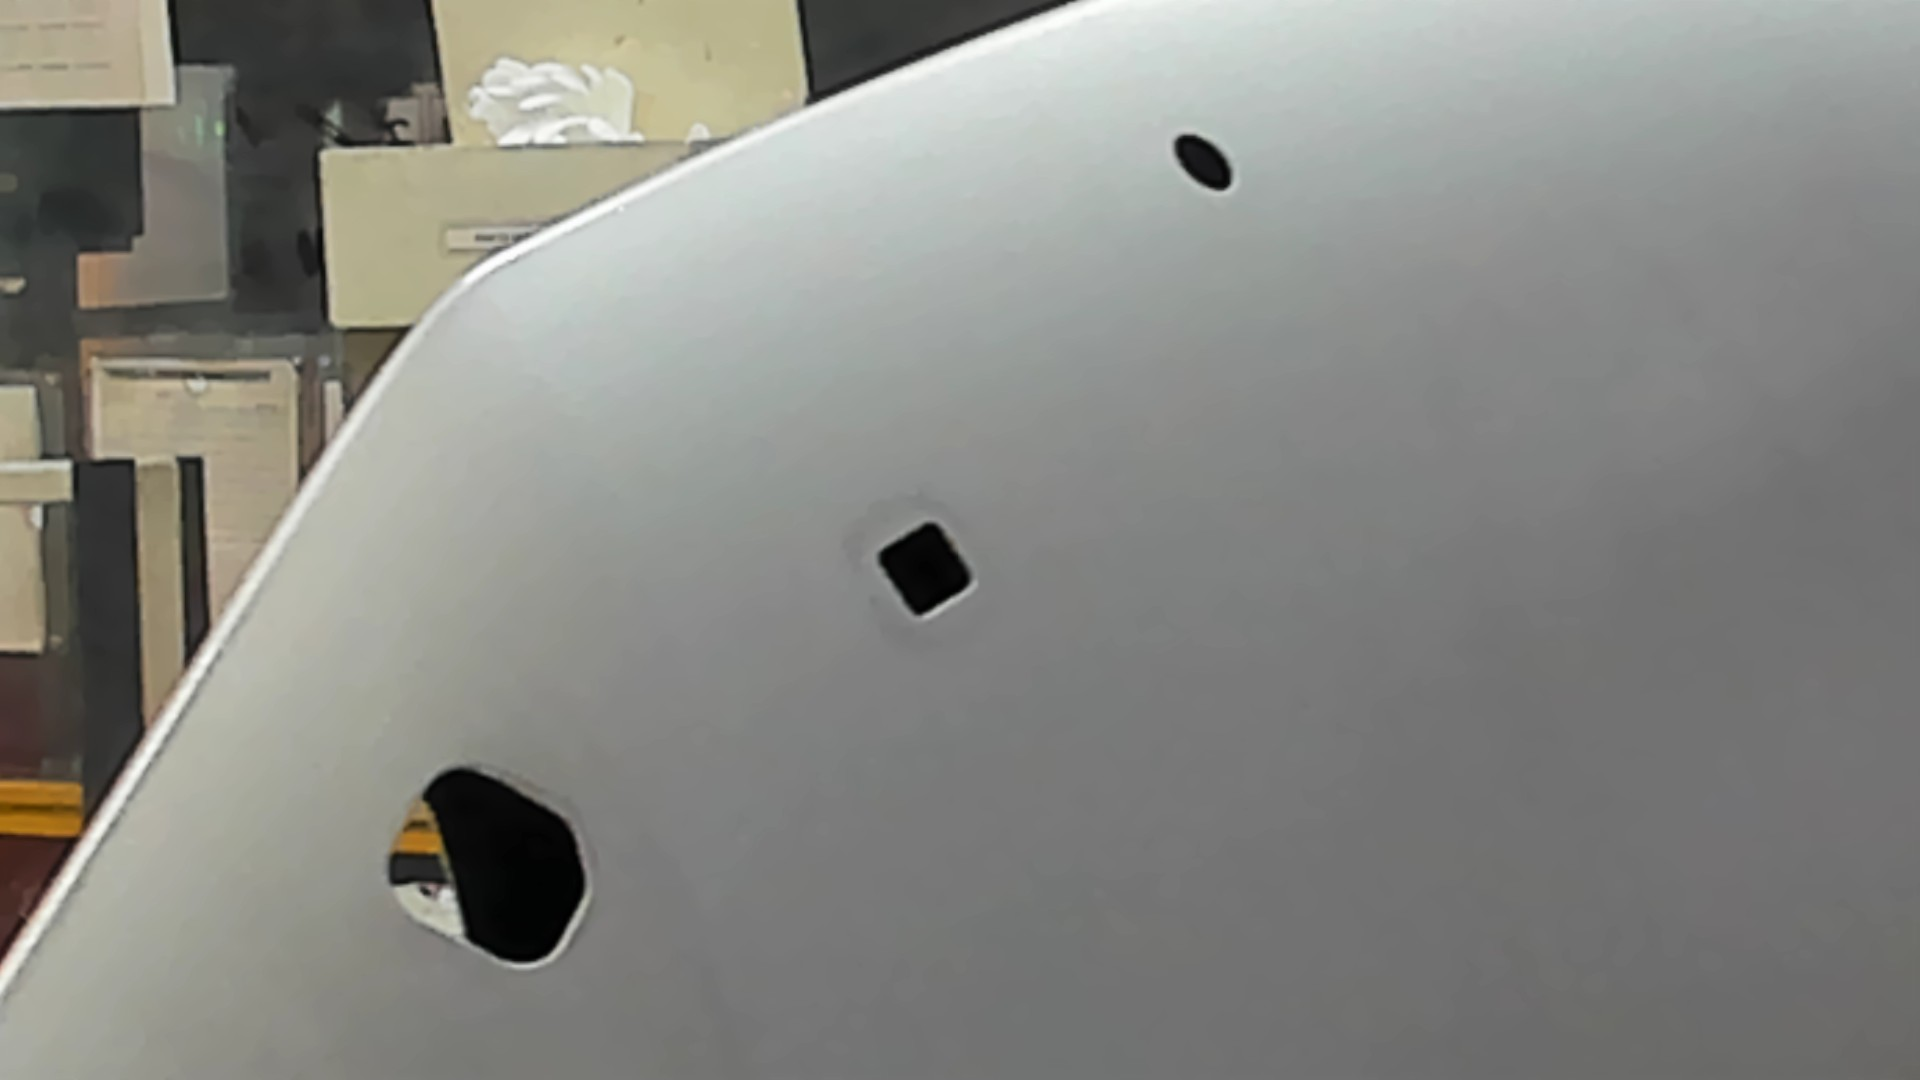Agujero: (876, 520, 975, 618), (1172, 131, 1236, 191)
Agujerote: (382, 764, 593, 969)
